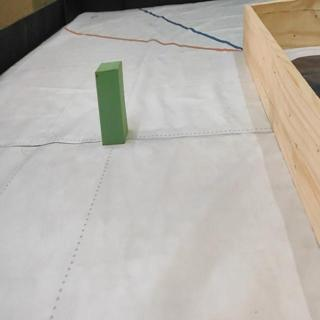greenbox: (94, 62, 129, 144)
